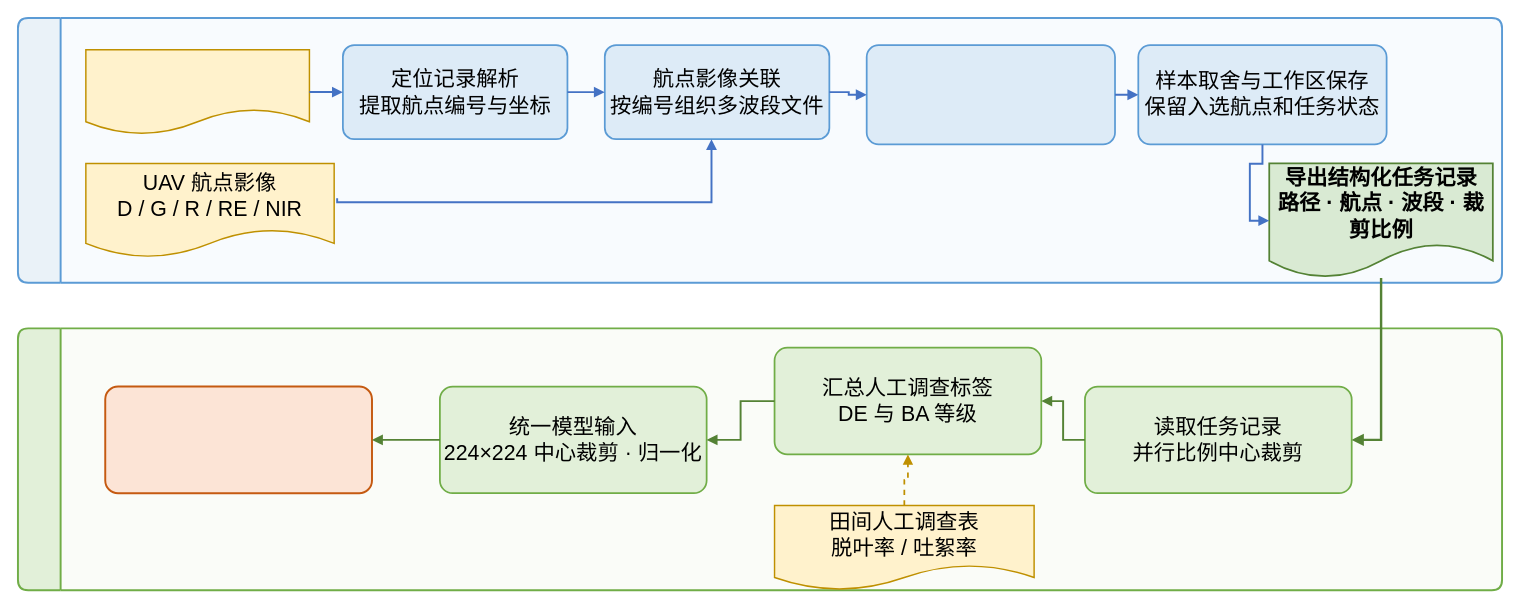
Image size: 1519x607. Some labels were removed from this diagram. Here are the shapes that lost their labels. From the top down, the box of each, then its label:
(85, 49, 310, 135): MRK 定位记录 影像编号、经纬度
(865, 44, 1115, 145): 空间筛选与影像复核 地图选点 · 框选 · 预览
(16, 16, 1503, 283): 桌面管理工具
(104, 385, 372, 494): HDF5 双指标数据集 images · de_labels · ba_labels
(16, 327, 1503, 591): 配套 Python 数据处理脚本
